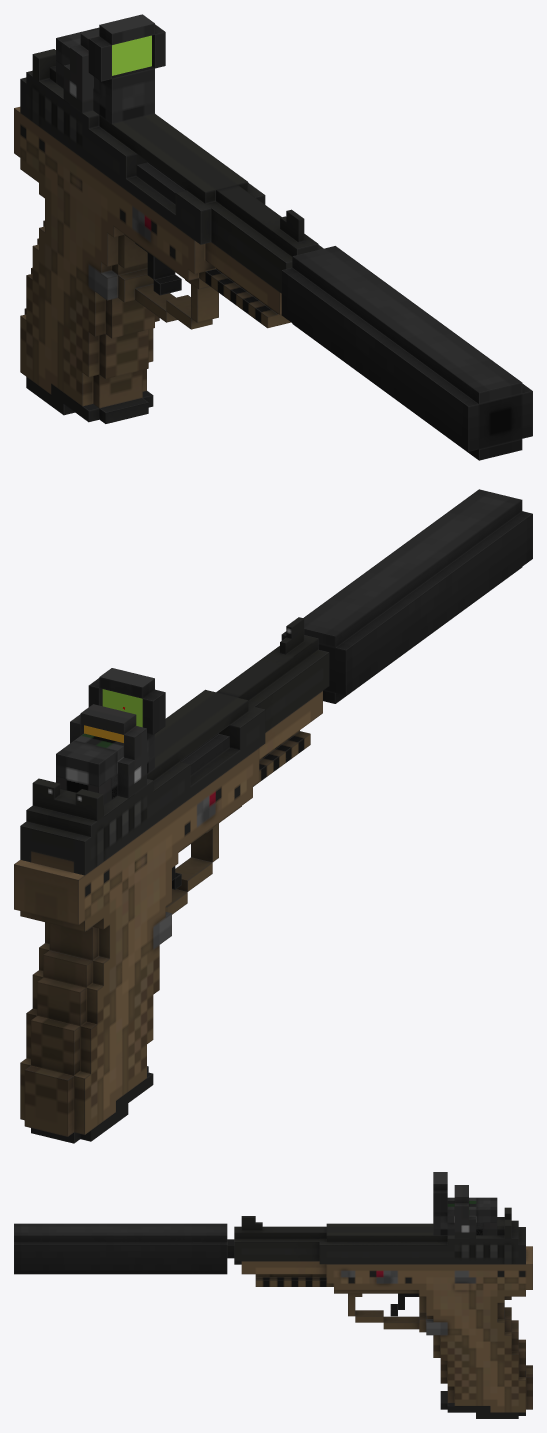
3 views of the same model, one above another, from view 1: azimuth 30°, elevation 25°; view 2: azimuth 150°, elevation 25°; view 3: azimuth 270°, elevation 25° (orthographic). The views are drawn at different scales.
Parts seen in each view (by area): view 1: FN57, SILENCER_6X6, FN57_FRAME, SCOPE_AIMPOINT, FN57_CLIP, SCOPE_TRIJICON; view 2: FN57, FN57_FRAME, SILENCER_6X6, SCOPE_AIMPOINT, SCOPE_TRIJICON, FN57_CLIP; view 3: FN57, FN57_FRAME, SILENCER_6X6, SCOPE_AIMPOINT, SCOPE_TRIJICON, FN57_CLIP.
Boxes of the visible parts, x1,y1,x2,y2 form: FN57: (14,107,290,408); SILENCER_6X6: (281,246,532,460); FN57_FRAME: (20,49,323,293); SCOPE_AIMPOINT: (56,14,165,123); FN57_CLIP: (26,377,153,423); SCOPE_TRIJICON: (56,29,99,112); FN57: (14,691,322,1136); FN57_FRAME: (20,617,329,875); SILENCER_6X6: (281,489,532,703); SCOPE_AIMPOINT: (56,668,165,800); SCOPE_TRIJICON: (56,704,146,805); FN57_CLIP: (31,1066,153,1143); FN57: (227,1239,532,1412); FN57_FRAME: (234,1207,525,1264); SILENCER_6X6: (14,1223,227,1274); SCOPE_AIMPOINT: (433,1172,497,1235); SCOPE_TRIJICON: (454,1185,497,1238); FN57_CLIP: (440,1391,525,1418).
Bounding box in the file's own units: 0.0591 × 0.3543 × 0.7185.
Materials: 6 (6 with a texture image).
